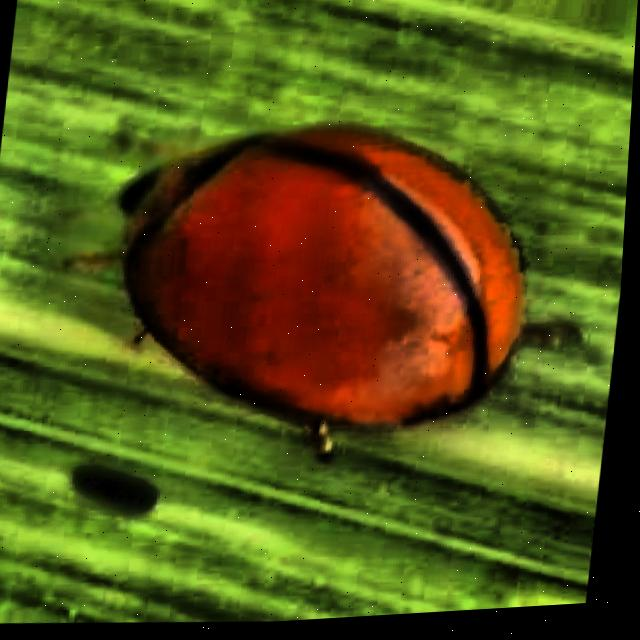Ladybug: (0, 13, 638, 519)
